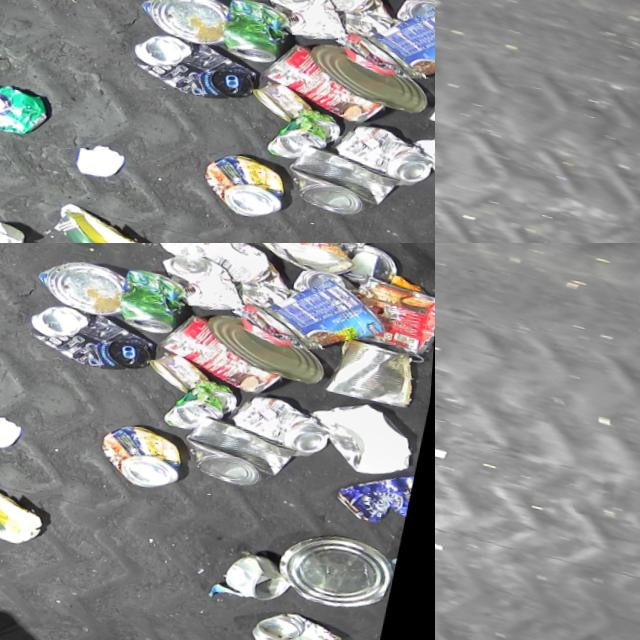can: (261, 257, 400, 356), (278, 511, 407, 608), (262, 29, 400, 119), (159, 300, 297, 390), (131, 21, 266, 101), (28, 292, 163, 372), (288, 132, 410, 216), (185, 403, 307, 487), (206, 302, 336, 376), (308, 31, 435, 105), (233, 380, 341, 452), (327, 323, 427, 399), (336, 108, 435, 181), (205, 140, 297, 216), (102, 411, 194, 487), (353, 261, 435, 345), (157, 243, 255, 310), (37, 246, 132, 313), (364, 0, 435, 85), (337, 448, 421, 518), (270, 94, 349, 161), (167, 365, 246, 432), (119, 261, 194, 331), (254, 593, 365, 640), (222, 0, 296, 60), (231, 539, 304, 597), (139, 0, 235, 42), (260, 0, 358, 39), (0, 70, 57, 137), (254, 70, 321, 118), (151, 341, 218, 389), (258, 243, 363, 269), (294, 255, 362, 293), (344, 243, 406, 279), (397, 0, 435, 21)
